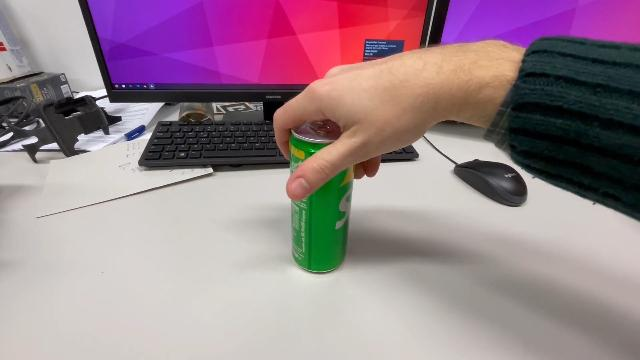Sprite: (284, 115, 358, 277)
